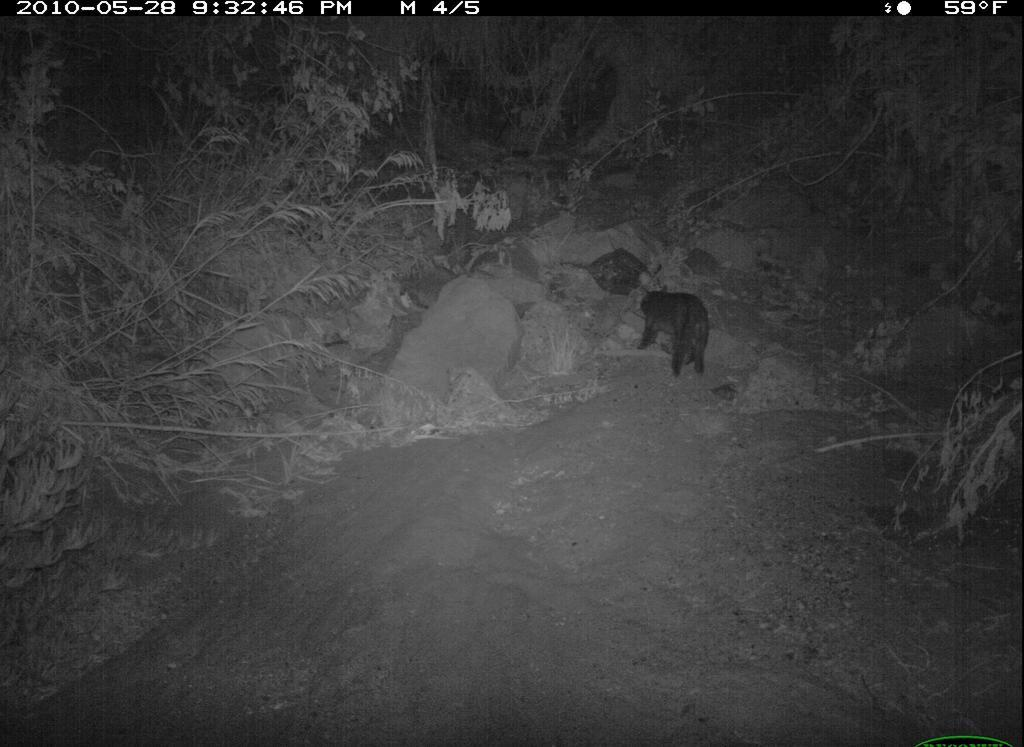cat: (620, 276, 725, 382)
